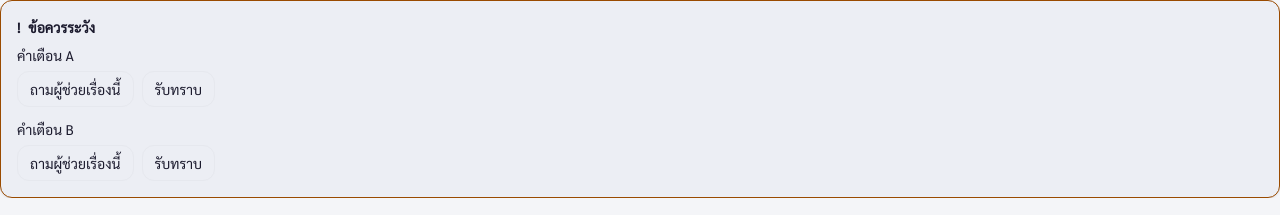
Scenario: WarningsPanel › "รับทราบ" ซ่อนคำเตือนนั้นออกจากหน้าจอ (local UI state)
The image size is (1280, 215).
Click the button "รับทราบ" below "คำเตือน A". click: (178, 89)
box: [142,71,215,107]
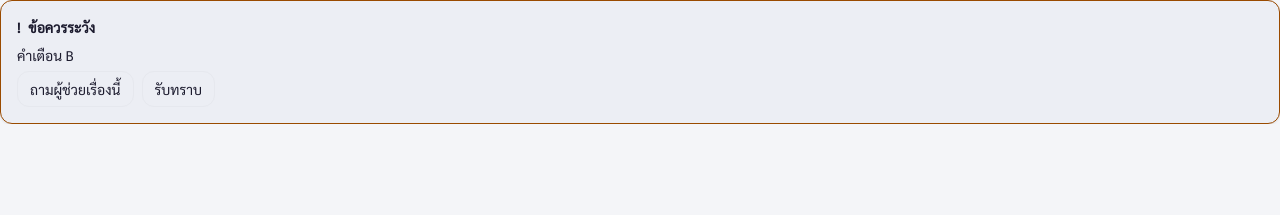
expect the text "คำเตือน B" is shown: met, box [17,46,74,64]
expect the text "คำเตือน A" is gone: met
